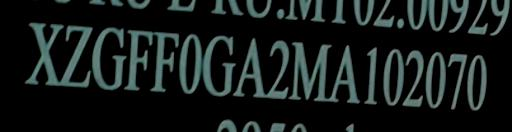letter: (288, 37, 334, 103), (22, 17, 64, 87), (89, 24, 129, 91), (58, 20, 94, 91), (230, 33, 268, 99), (202, 29, 236, 97), (122, 25, 156, 92), (148, 28, 182, 94), (326, 41, 362, 103), (264, 33, 292, 99), (178, 30, 204, 96), (380, 45, 406, 107), (422, 48, 448, 109), (464, 51, 490, 112), (402, 46, 426, 107), (446, 50, 470, 109), (360, 42, 380, 105)
